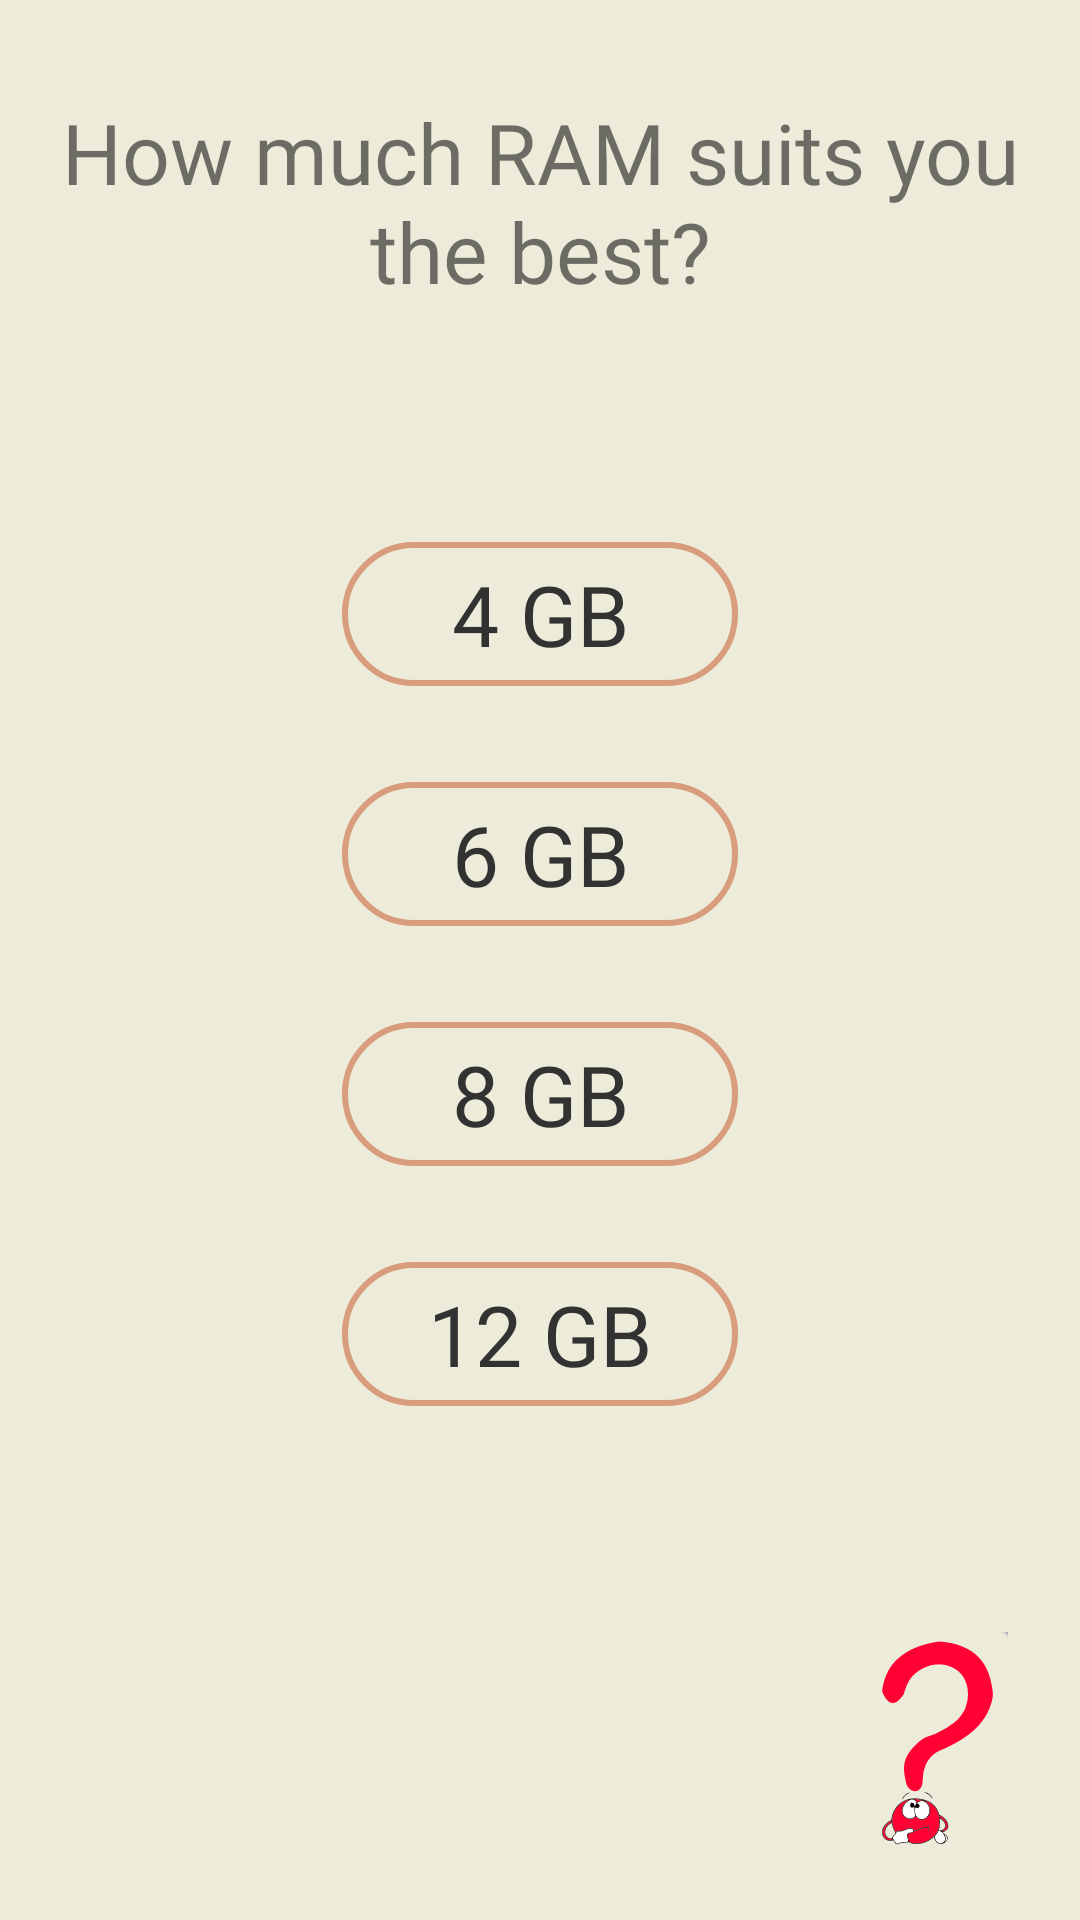

Icons on this 1080 x 1920 Android screen, each with the point to tap as point (x, y):
question mark: point (945, 1738)
